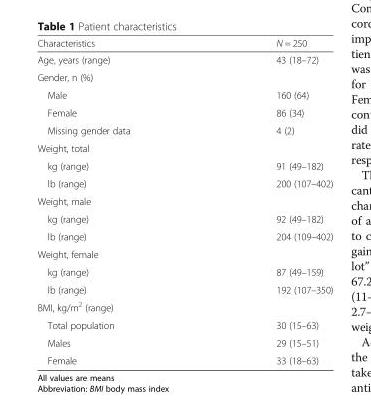table: (36, 37, 332, 365)
table column: (36, 37, 202, 365), (202, 37, 332, 365)
table column header: (36, 37, 332, 50)
table projected row header: (36, 138, 332, 156), (36, 297, 332, 315), (36, 68, 332, 85), (36, 192, 332, 209), (36, 245, 332, 262)
table row: (36, 50, 332, 68), (36, 85, 332, 103), (36, 103, 332, 121), (36, 138, 332, 156), (36, 156, 332, 174), (36, 174, 332, 192), (36, 209, 332, 227), (36, 227, 332, 245), (36, 262, 332, 280), (36, 297, 332, 315), (36, 315, 332, 333), (36, 333, 332, 351), (36, 68, 332, 85), (36, 121, 332, 138), (36, 192, 332, 209), (36, 245, 332, 262), (36, 280, 332, 297), (36, 351, 332, 365), (36, 37, 332, 50)
